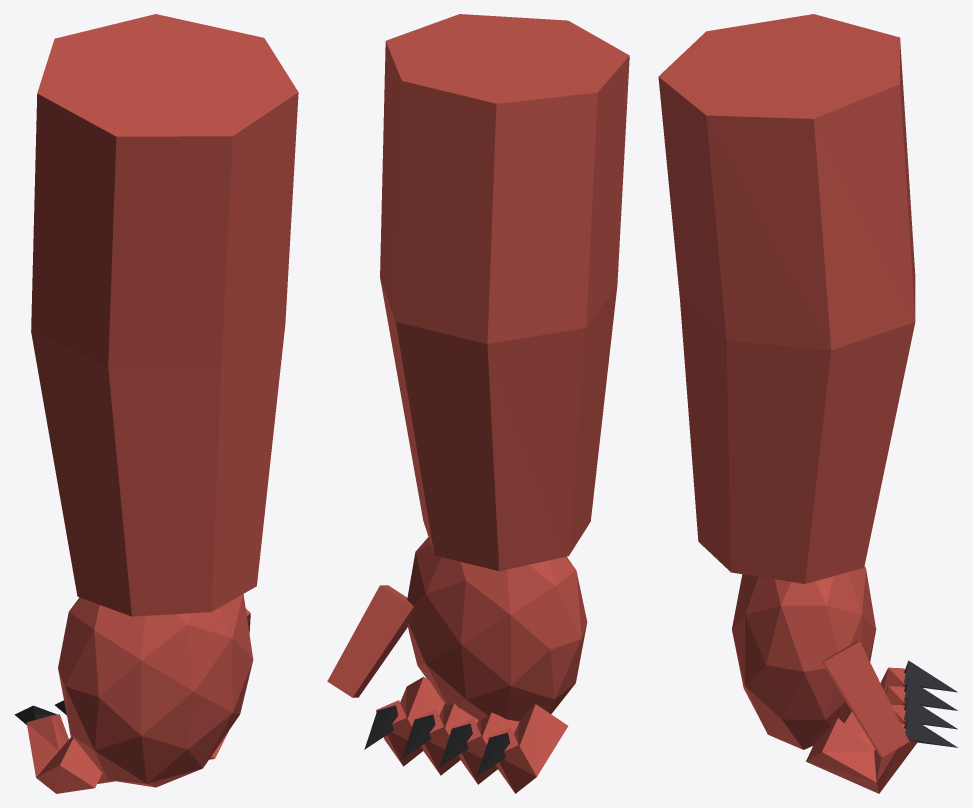
The model's file is SatanForearmFist.obj.
3 views of the same model, side by side, from view 1: azimuth 30°, elevation 25°; view 2: azimuth 150°, elevation 25°; view 3: azimuth 270°, elevation 25° (orthographic). The views are drawn at different scales.
Parts seen in each view (by area): view 1: SatanForearmFist; view 2: SatanForearmFist; view 3: SatanForearmFist.
Boxes of the visible parts, x1=… form: SatanForearmFist: x1=14, y1=14, x2=298, y2=793; SatanForearmFist: x1=327, y1=14, x2=629, y2=793; SatanForearmFist: x1=658, y1=14, x2=957, y2=793.
Size of the model in its own units: 0.1482 by 0.4274 by 0.1648.
Materials: 1 (1 with a texture image).
